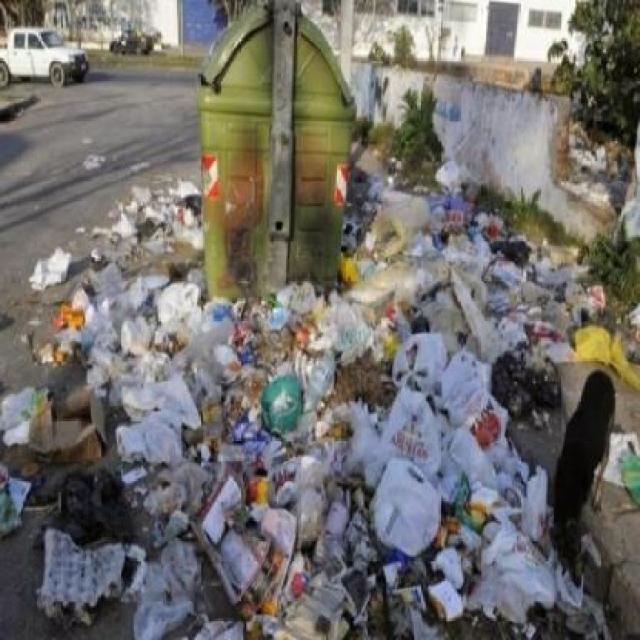garbage: (46, 257, 543, 626), (351, 165, 640, 365), (96, 145, 196, 342), (0, 310, 48, 639)
